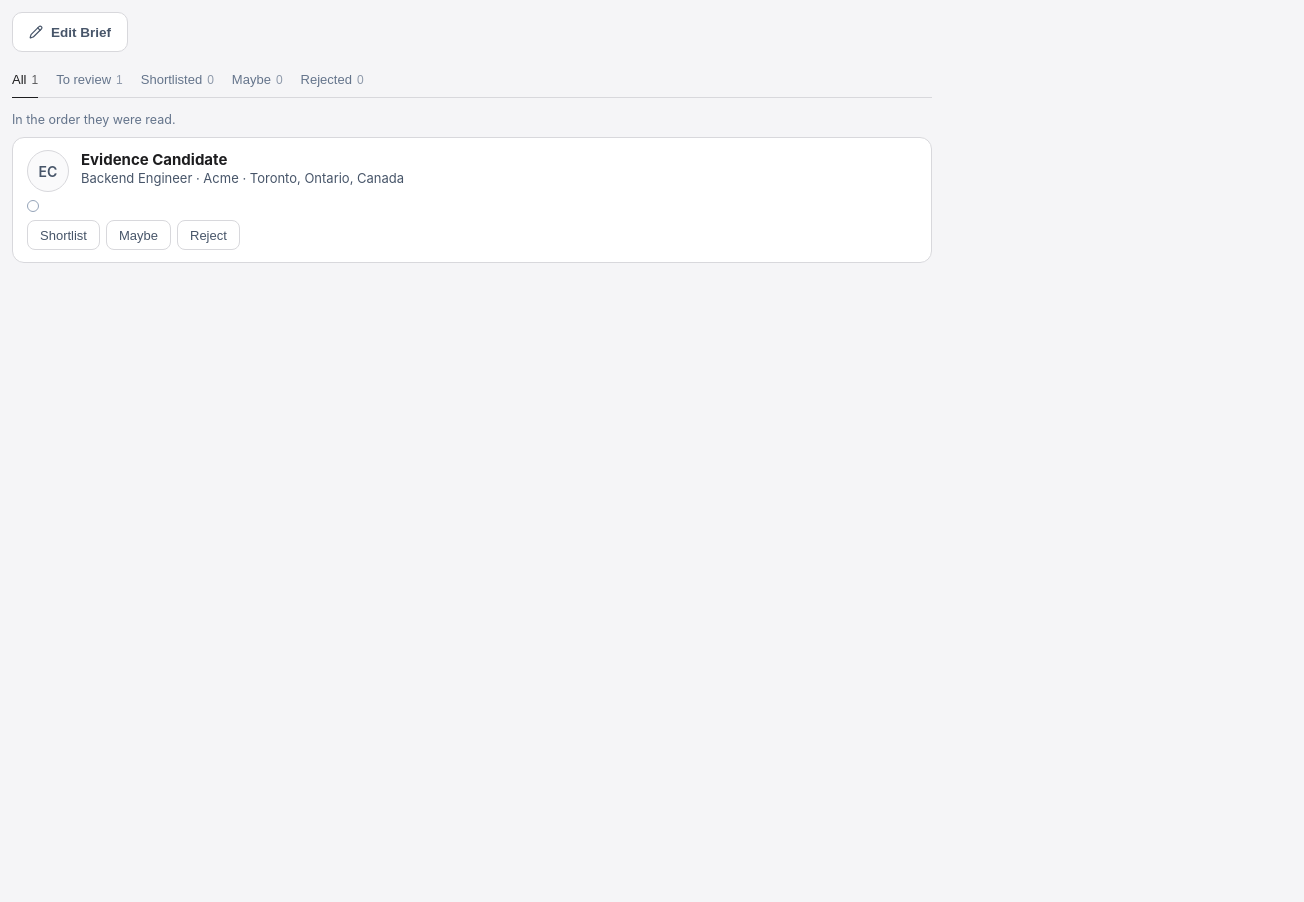
Test: evidence state: met / not_evidenced / unknown › 2. not_evidenced renders distinctly from met
What coordinates should you click on to do the following:
click the element with class "ws-card"
I would click on:
 (472, 200)
Its box is [12, 137, 932, 263].
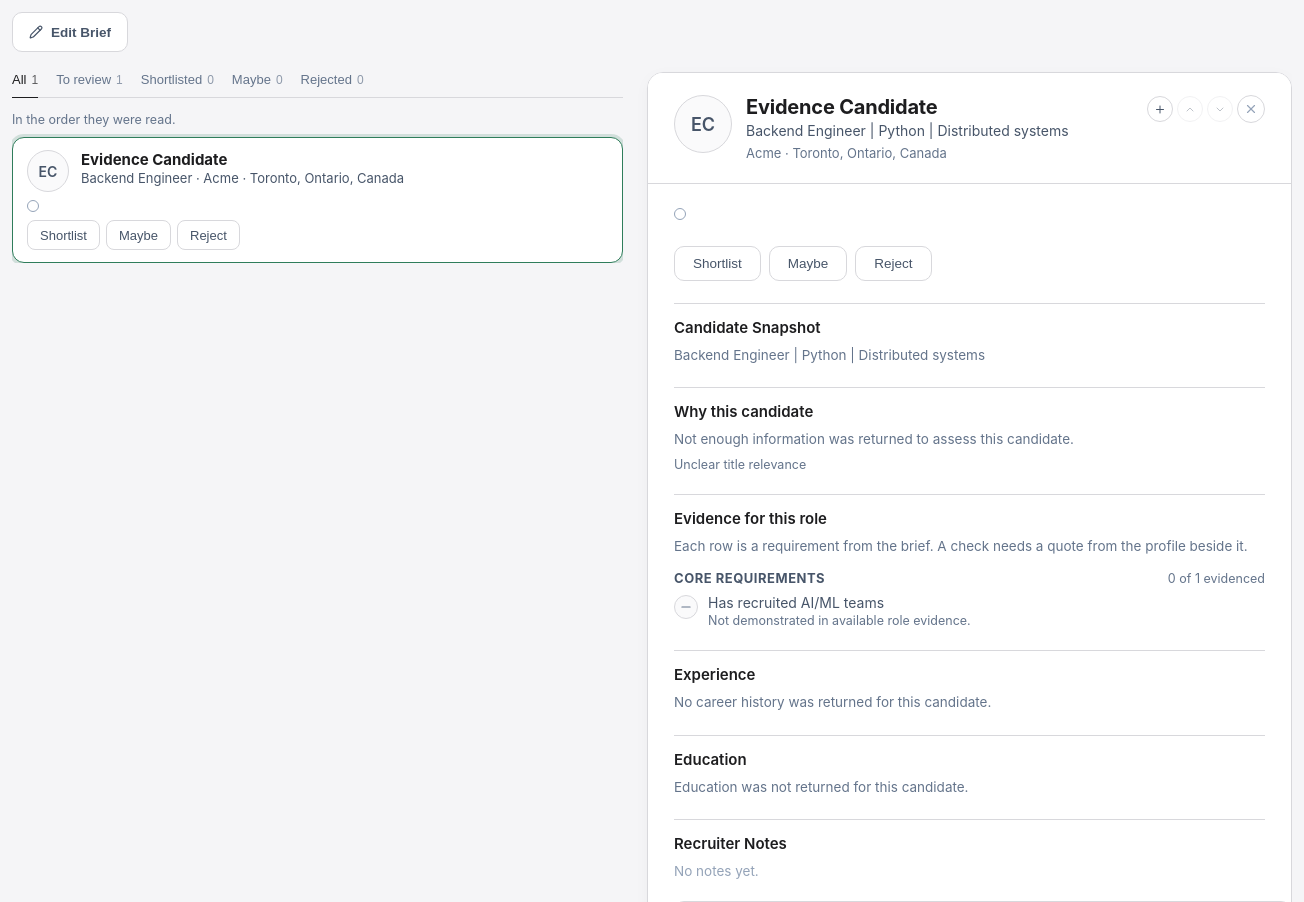
expect the list item with class "record-ledger__row--missing" is shown: met, box [674, 594, 971, 628]
expect the list item with class "record-ledger__row--missing" shows "Not demonstrated in available role evidence.": met, box [708, 613, 971, 628]
